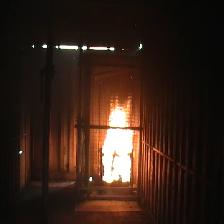fire: (102, 96, 134, 182)
